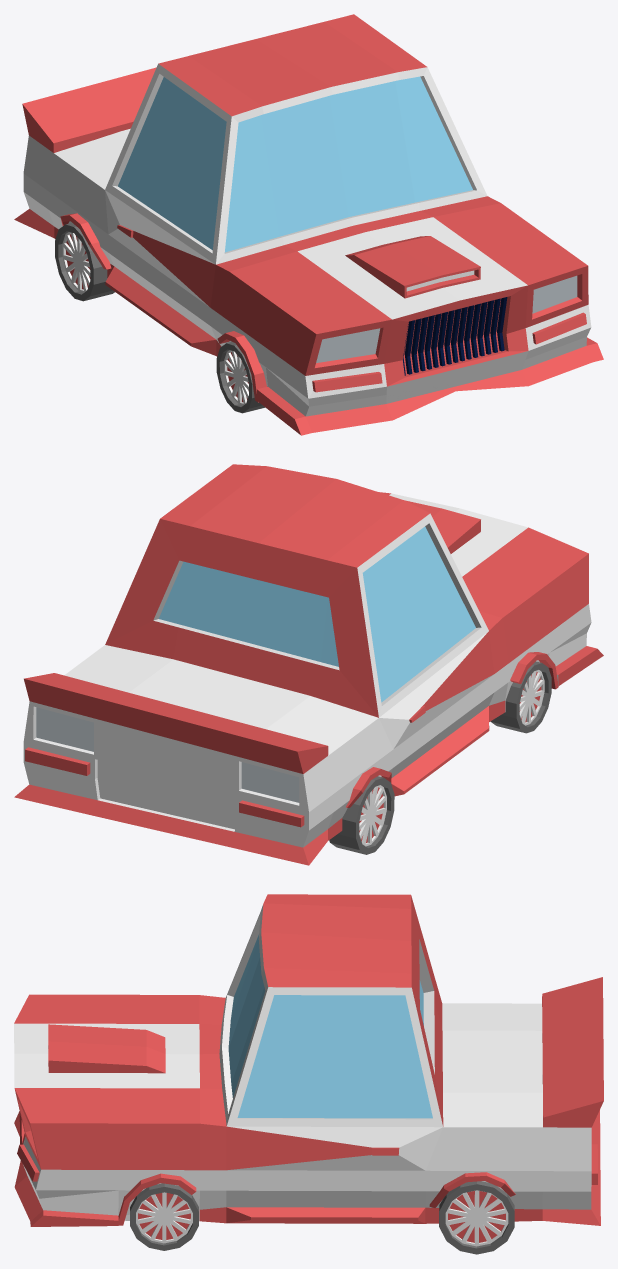
The model's file is Car.glb.
The picture shows the model from 3 angles, top to bottom: view 1: azimuth 30°, elevation 25°; view 2: azimuth 150°, elevation 25°; view 3: azimuth 270°, elevation 25°; orthographic projection. The views are drawn at different scales.
Parts seen in each view (by area): view 1: body, lattice.1, wheel.1, headlight, wheel1.1, front_fender, rear_fender; view 2: body, backlight, wheel.1, wheel1.1, front_fender, rear_fender; view 3: body, wheel.1, wheel1.1, front_fender, rear_fender.
Part boxes in pixels (x1,y1,x2,y2): body: (14,14,603,435); lattice.1: (403,297,507,375); wheel.1: (55,222,114,301); headlight: (316,275,577,362); wheel1.1: (216,342,264,413); front_fender: (217,331,266,402); rear_fender: (60,213,111,269); body: (14,464,603,865); backlight: (36,707,299,802); wheel.1: (329,776,394,854); wheel1.1: (490,661,551,733); front_fender: (510,652,558,689); rear_fender: (346,767,391,807); body: (14,894,603,1226); wheel.1: (439,1181,514,1254); wheel1.1: (130,1183,198,1250); front_fender: (118,1173,196,1225); rear_fender: (429,1172,515,1207).
Size of the model in its own units: 1.38 by 1.11 by 2.37.
